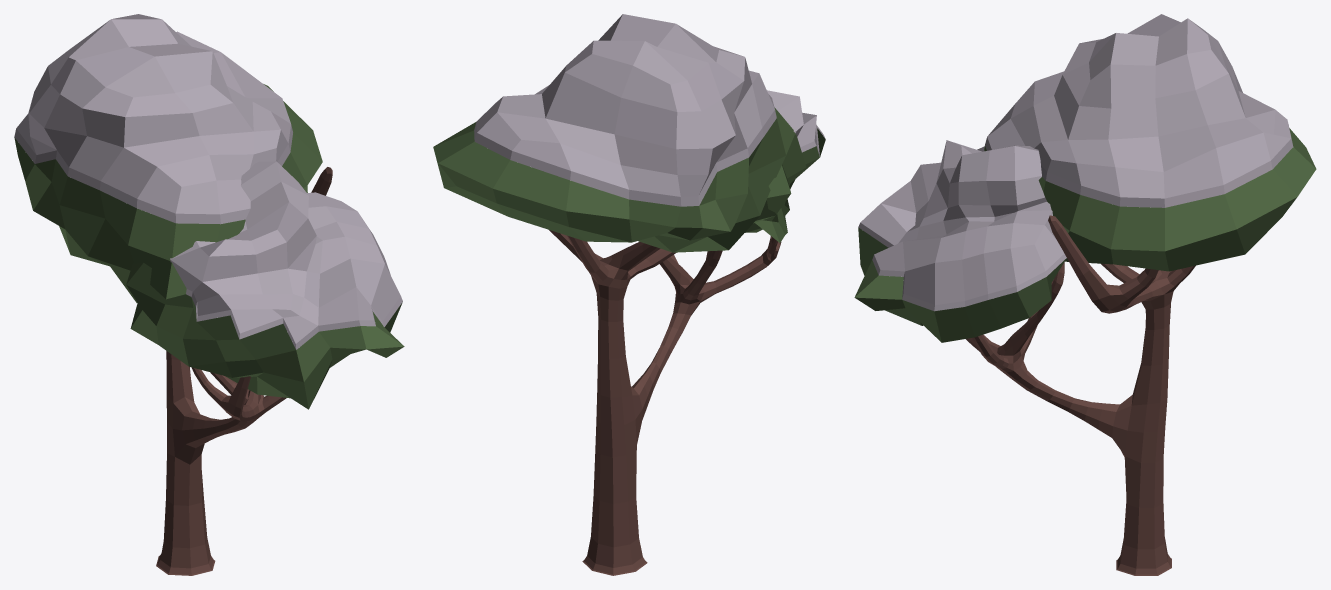
Rendered from CommonTree_Snow_2.glb.
3 renders of one model, left to right at view 1: azimuth 30°, elevation 25°; view 2: azimuth 150°, elevation 25°; view 3: azimuth 270°, elevation 25°, orthographic. The views are drawn at different scales.
Visible parts, largest first — view 1: CommonTree; view 2: CommonTree; view 3: CommonTree.
Boxes of the visible parts, bbox=[...] form: CommonTree: bbox=[14, 14, 404, 575]; CommonTree: bbox=[433, 14, 825, 575]; CommonTree: bbox=[854, 14, 1316, 575].
Size of the model in its own units: 1.66 by 3.16 by 2.54.
